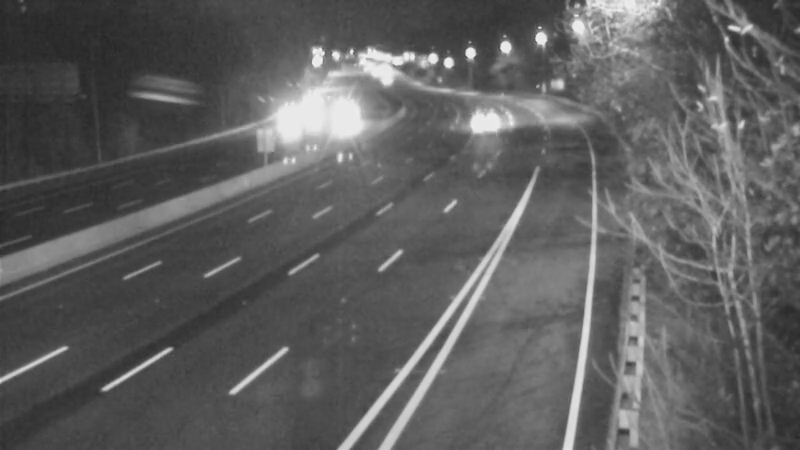vehicle: (460, 89, 510, 139), (266, 95, 316, 145), (316, 98, 366, 148), (290, 80, 340, 130)
